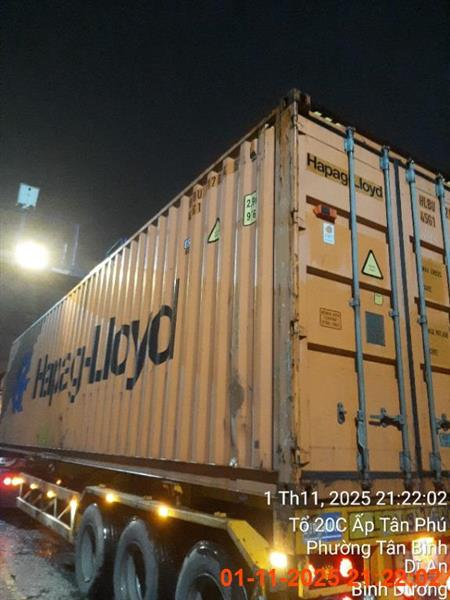hole: (0, 91, 448, 599)
